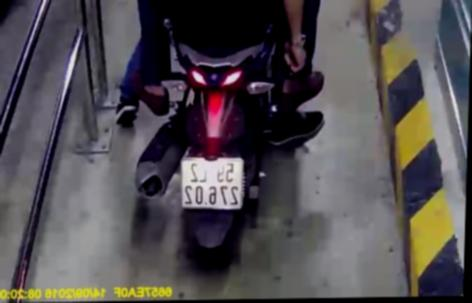License_Plate: (175, 154, 246, 215)
